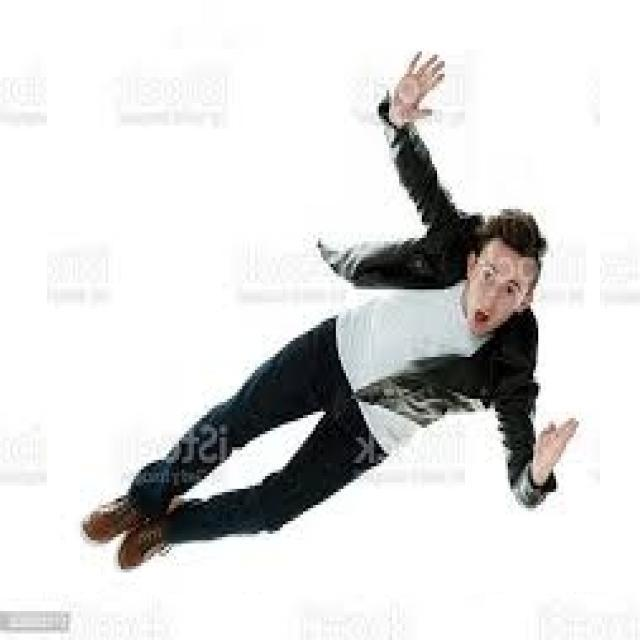NotFall: (27, 64, 569, 590)
